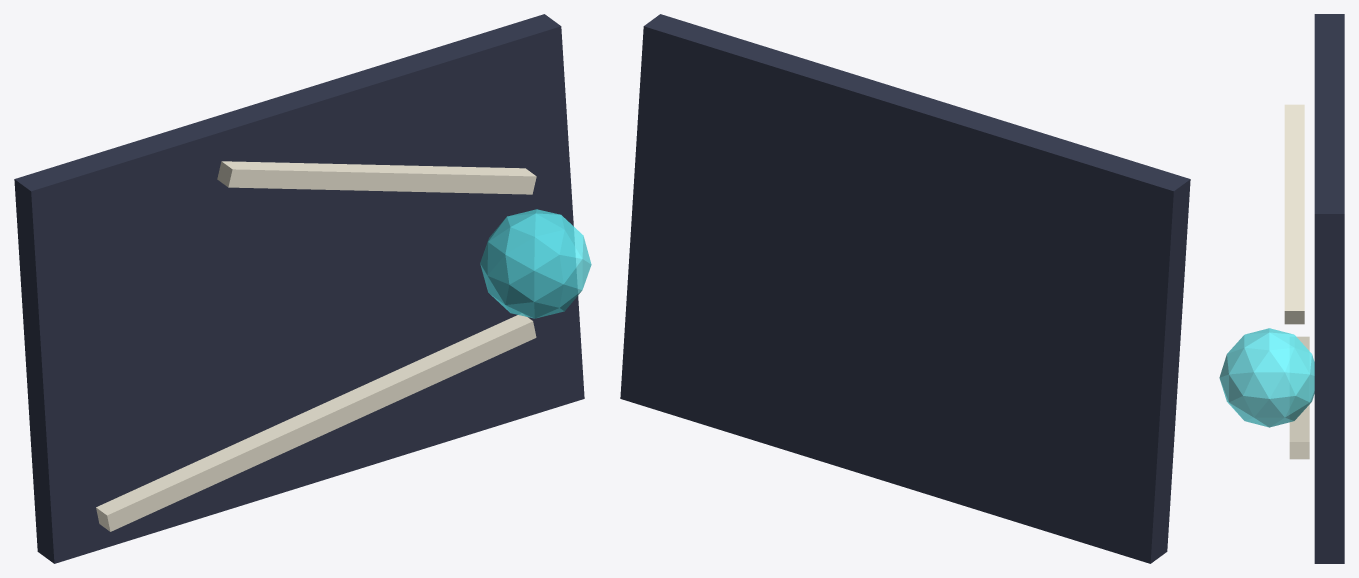
Rendered from 02_world_prop_polish.glb.
3 views of the same model, side by side, from view 1: azimuth 30°, elevation 25°; view 2: azimuth 150°, elevation 25°; view 3: azimuth 270°, elevation 25° (orthographic). The views are drawn at different scales.
Visible parts, largest first — view 1: object_overlay_plate, edge_wear_a, glow_socket, edge_wear_b; view 2: object_overlay_plate; view 3: object_overlay_plate, glow_socket, edge_wear_b, edge_wear_a.
Boxes of the visible parts, x1,y1,x2,y2 form: object_overlay_plate: [14, 14, 584, 563]; edge_wear_a: [96, 314, 536, 531]; glow_socket: [480, 209, 591, 318]; edge_wear_b: [217, 161, 536, 194]; object_overlay_plate: [620, 14, 1190, 563]; object_overlay_plate: [1314, 14, 1344, 563]; glow_socket: [1219, 328, 1314, 427]; edge_wear_b: [1284, 104, 1304, 324]; edge_wear_a: [1289, 336, 1309, 459].
Bounding box in the file's own units: 1.15 × 0.8192 × 0.25.
